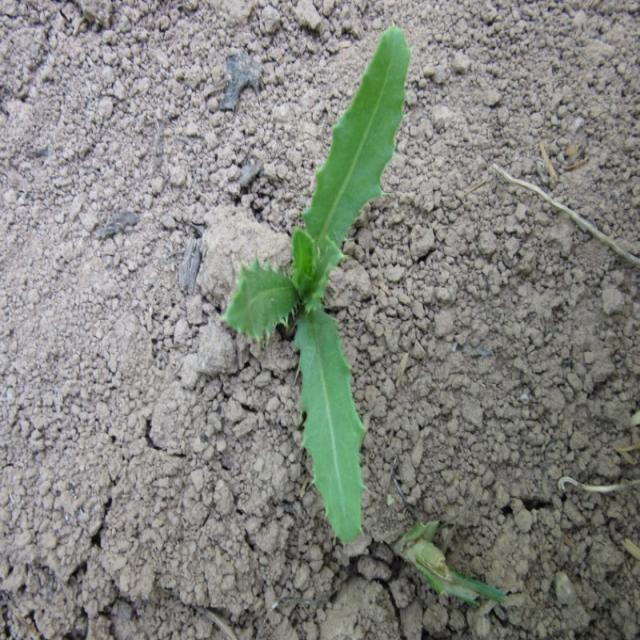cs: (219, 22, 412, 550)
